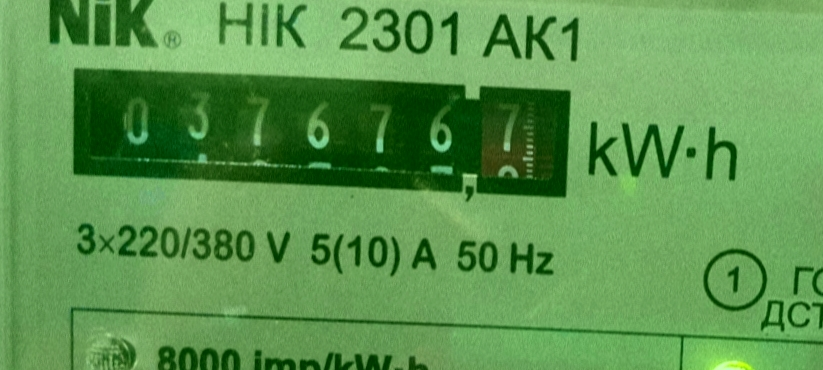0: (117, 91, 152, 147)
3: (180, 85, 210, 143)
6: (299, 95, 333, 150), (422, 99, 454, 154)
7: (360, 99, 394, 158), (238, 91, 271, 148), (490, 97, 520, 154)
screen: (51, 50, 585, 216)
